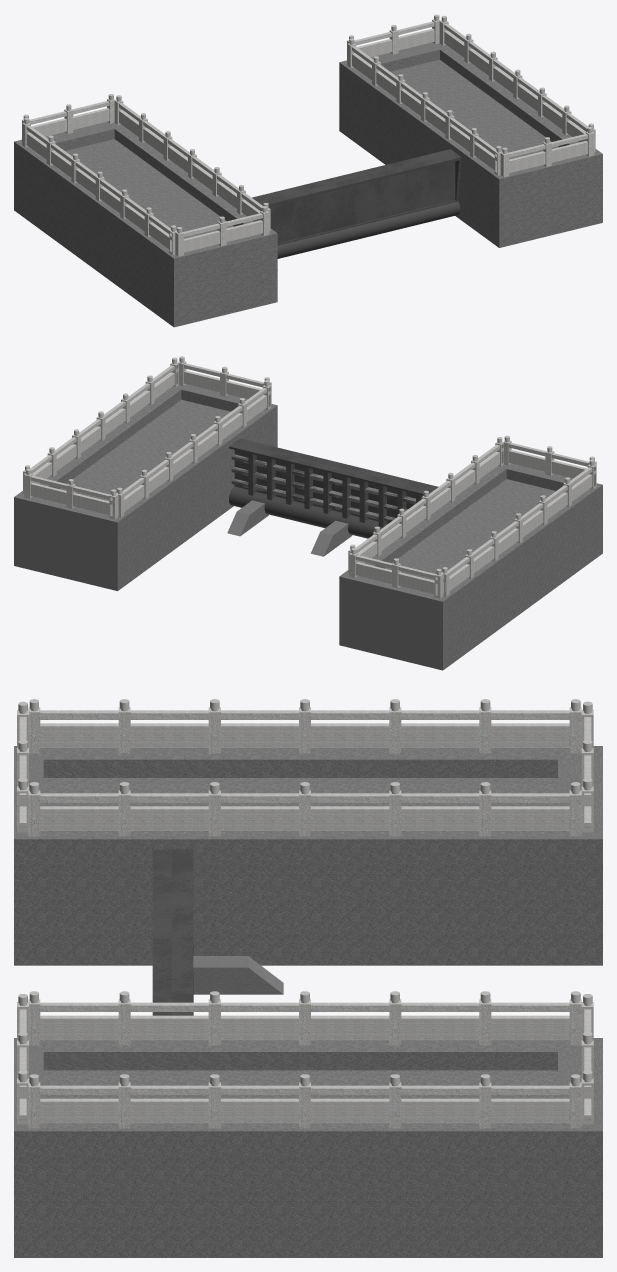
The picture shows the model from 3 angles, top to bottom: view 1: azimuth 30°, elevation 25°; view 2: azimuth 150°, elevation 25°; view 3: azimuth 270°, elevation 25°; orthographic projection. The views are drawn at different scales.
Parts seen in each view (by area): view 1: 立方体.002, 立方体.001, 闸门, 钢坝_body1(3).007, 钢坝_body1(3).002, 钢坝_body1(3), 钢坝_body1(3).001, 钢坝_body1(3).008, 钢坝_body1(3).003, 钢坝_body1(3).004, 钢坝_body1(3).010, 钢坝_body1(3).005 (+3 smaller); view 2: 立方体.002, 立方体.001, 闸门, 钢坝_body1(3).007, 钢坝_body1(3).002, 钢坝_body1(3).001, 钢坝_body1(3), 钢坝_body1(3).006, 钢坝_body1(3).011, 钢坝_body1(3).010, 钢坝_body1(3).003, 钢坝_body1(3).008 (+5 smaller); view 3: 立方体.001, 立方体.002, 钢坝_body1(3), 钢坝_body1(3).002, 钢坝_body1(3).001, 钢坝_body1(3).007, 闸门, 立方体.010, 钢坝_body1(3).010, 钢坝_body1(3).005, 钢坝_body1(3).003, 钢坝_body1(3).008.
Boxes of the visible parts, <box> form: 立方体.002: <box>14,121,277,327</box>; 立方体.001: <box>339,42,602,247</box>; 闸门: <box>246,149,461,258</box>; 钢坝_body1(3).007: <box>22,117,176,255</box>; 钢坝_body1(3).002: <box>347,38,502,175</box>; 钢坝_body1(3): <box>439,15,595,152</box>; 钢坝_body1(3).001: <box>114,95,270,231</box>; 钢坝_body1(3).008: <box>218,206,269,246</box>; 钢坝_body1(3).003: <box>544,126,594,166</box>; 钢坝_body1(3).004: <box>500,137,551,177</box>; 钢坝_body1(3).010: <box>65,94,115,133</box>; 钢坝_body1(3).005: <box>390,14,440,54</box>; 立方体.002: <box>339,463,602,670</box>; 立方体.001: <box>14,384,277,591</box>; 闸门: <box>229,438,444,538</box>; 钢坝_body1(3).007: <box>441,459,596,596</box>; 钢坝_body1(3).002: <box>116,380,271,517</box>; 钢坝_body1(3).001: <box>348,437,503,572</box>; 钢坝_body1(3): <box>23,357,178,493</box>; 钢坝_body1(3).006: <box>66,479,118,519</box>; 钢坝_body1(3).011: <box>392,559,443,598</box>; 钢坝_body1(3).010: <box>349,548,399,587</box>; 钢坝_body1(3).003: <box>177,356,228,395</box>; 钢坝_body1(3).008: <box>503,435,553,474</box>; 立方体.001: <box>14,1038,602,1257</box>; 立方体.002: <box>14,746,602,965</box>; 钢坝_body1(3): <box>28,1074,581,1128</box>; 钢坝_body1(3).002: <box>28,991,581,1045</box>; 钢坝_body1(3).001: <box>28,782,581,836</box>; 钢坝_body1(3).007: <box>28,699,581,753</box>; 闸门: <box>152,849,193,1015</box>; 立方体.010: <box>193,956,283,994</box>; 钢坝_body1(3).010: <box>581,740,593,832</box>; 钢坝_body1(3).005: <box>581,1032,593,1124</box>; 钢坝_body1(3).003: <box>17,1032,28,1124</box>; 钢坝_body1(3).008: <box>17,740,28,832</box>.
Bounding box in the file's own units: 19.08 × 4.07 × 12.32.
5 materials, 4 textured.
